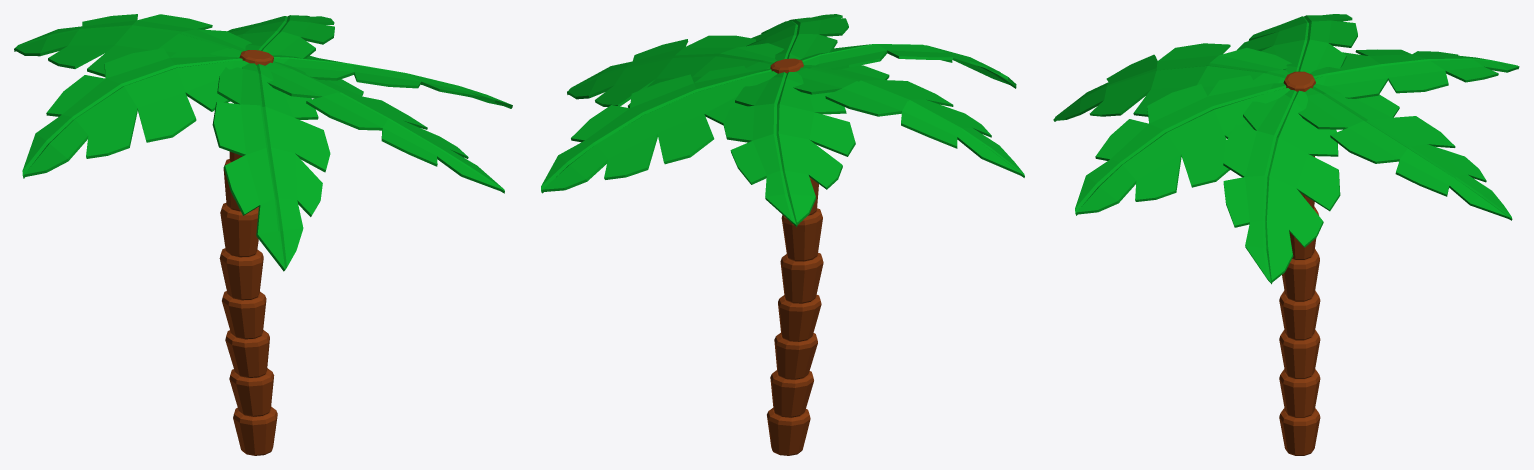
Rendered from tree-palm.fbx.
3 views of the same model, side by side, from view 1: azimuth 30°, elevation 25°; view 2: azimuth 150°, elevation 25°; view 3: azimuth 270°, elevation 25° (orthographic). The views are drawn at different scales.
Parts seen in each view (by area): view 1: base arbol; view 2: base arbol; view 3: base arbol.
Part boxes in pixels (x1,y1,x2,y2): base arbol: (14,14,512,455); base arbol: (541,14,1024,455); base arbol: (1053,14,1519,455).
Bounding box in the file's own units: 17.5 × 13.97 × 15.7.
